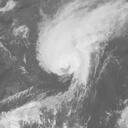cyclone: (37, 16, 89, 76)
